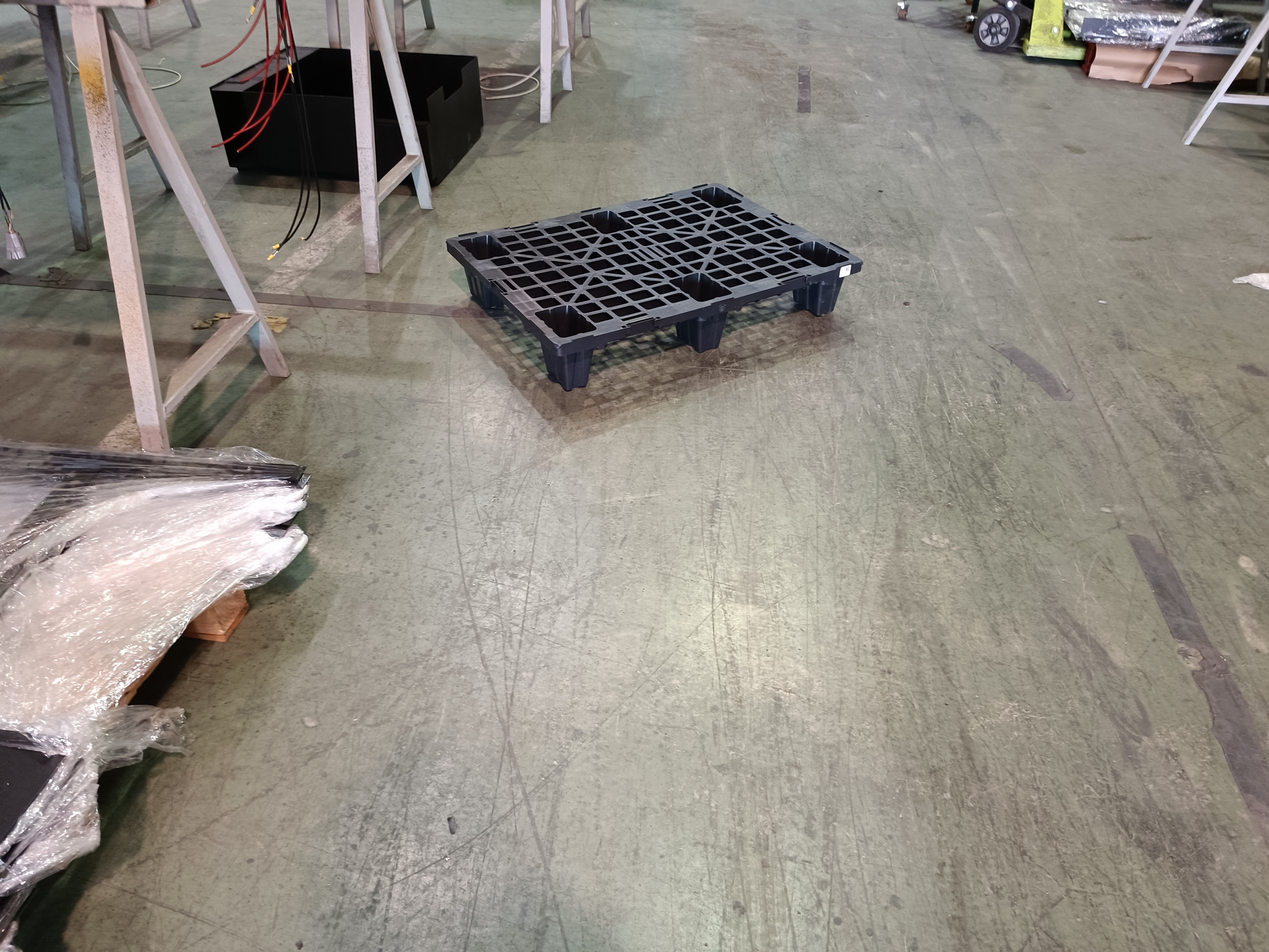block: (539, 337, 589, 395), (681, 304, 726, 351), (462, 263, 499, 320), (796, 279, 841, 317)
front: (555, 256, 872, 401)
hole pallet: (588, 321, 689, 381), (725, 287, 813, 348)
